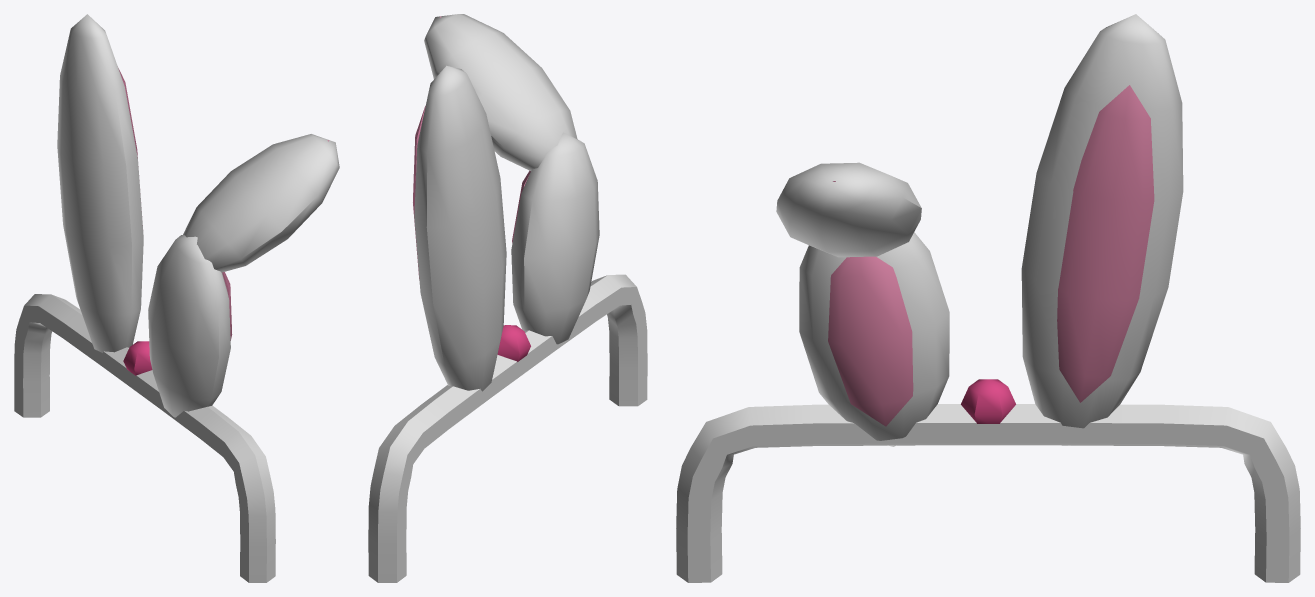
Rendered from bunny_ears.glb.
3 views of the same model, side by side, from view 1: azimuth 30°, elevation 25°; view 2: azimuth 150°, elevation 25°; view 3: azimuth 270°, elevation 25° (orthographic). The views are drawn at different scales.
Visible parts, largest first — view 1: bunny_ears; view 2: bunny_ears; view 3: bunny_ears.
Part boxes in pixels (left/top/right/bottom): bunny_ears: left=14, top=14, right=339, bottom=582; bunny_ears: left=368, top=14, right=647, bottom=582; bunny_ears: left=676, top=14, right=1300, bottom=582.
Bounding box in the file's own units: 0.1844 × 0.4884 × 0.4931.
